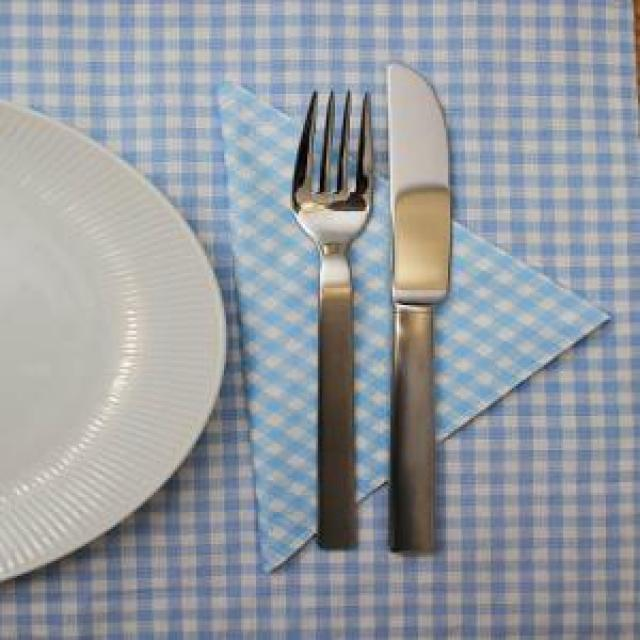knife: (384, 60, 448, 561)
